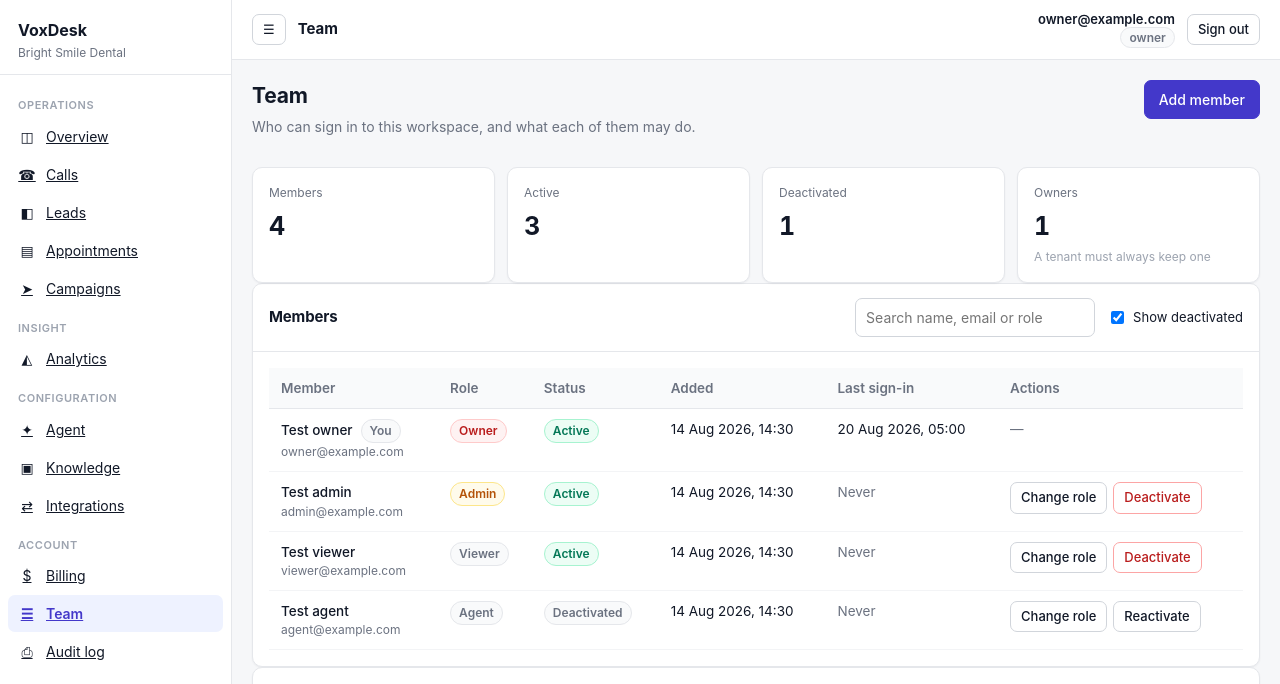
Test case: member list › filters by search and by the deactivated toggle
Expected: the heading "Team" is shown, left=252, top=83, right=308, bottom=108
Expected: the text "Test owner" is shown, left=281, top=422, right=353, bottom=438
Type "admin" into the search field named "search members" at (975, 318), box left=855, top=298, right=1095, bottom=337
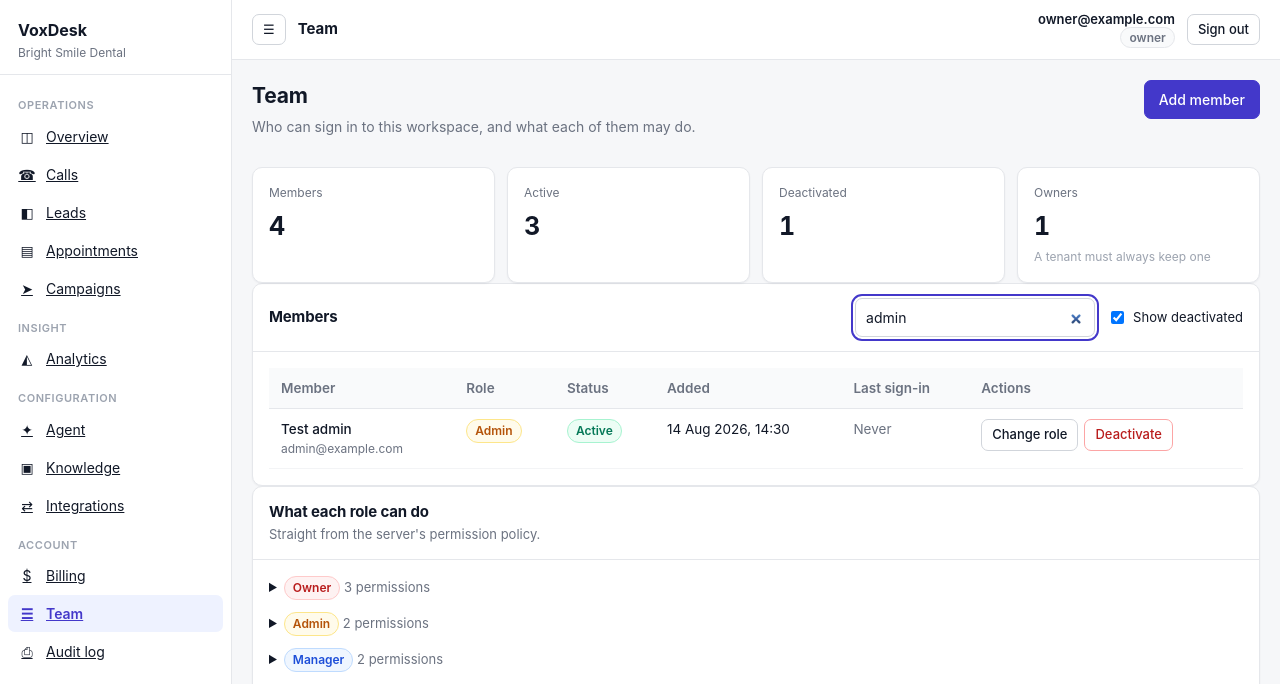
Expected: the text "Test admin" is shown, left=281, top=421, right=352, bottom=437
Now the text "Test viewer" is gone
Clear the search field named "search members" at (975, 318), box left=855, top=298, right=1095, bottom=337
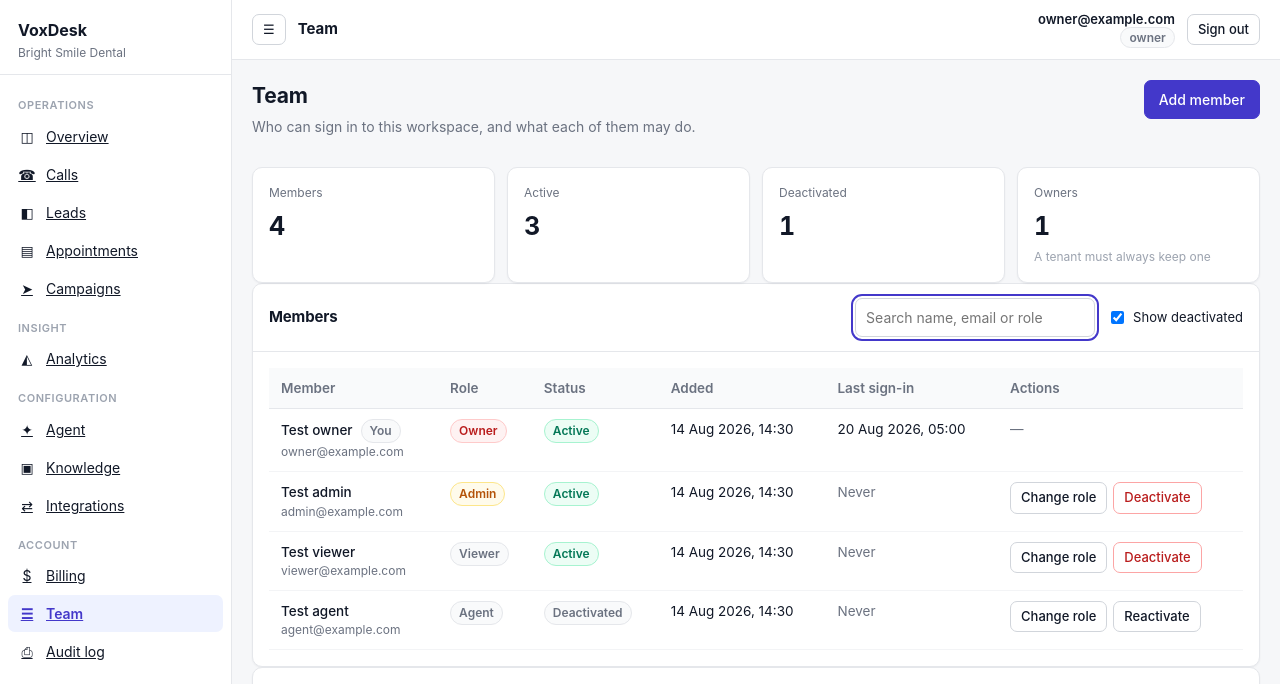
Click the checkbox labelled "Show deactivated" at (1118, 318), box left=1111, top=311, right=1124, bottom=324
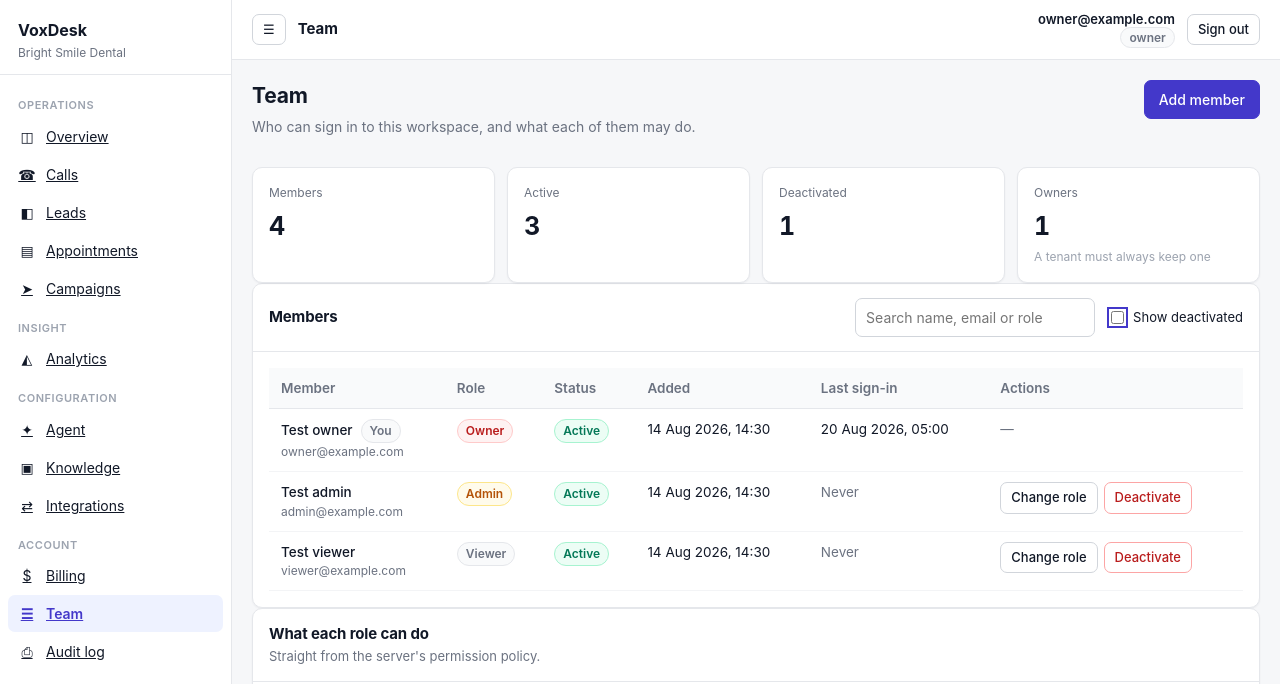
Now the text "Test agent" is gone
